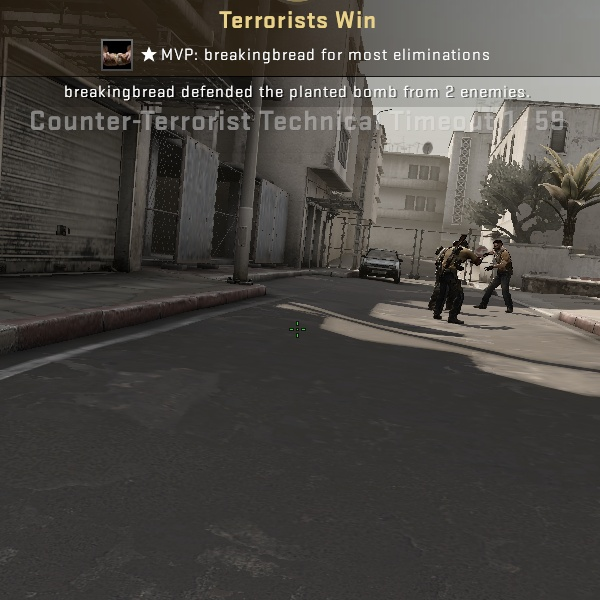t_body: (440, 238, 477, 325), (479, 240, 513, 313), (429, 244, 442, 313)
t_head: (455, 238, 468, 250), (493, 239, 503, 254)
